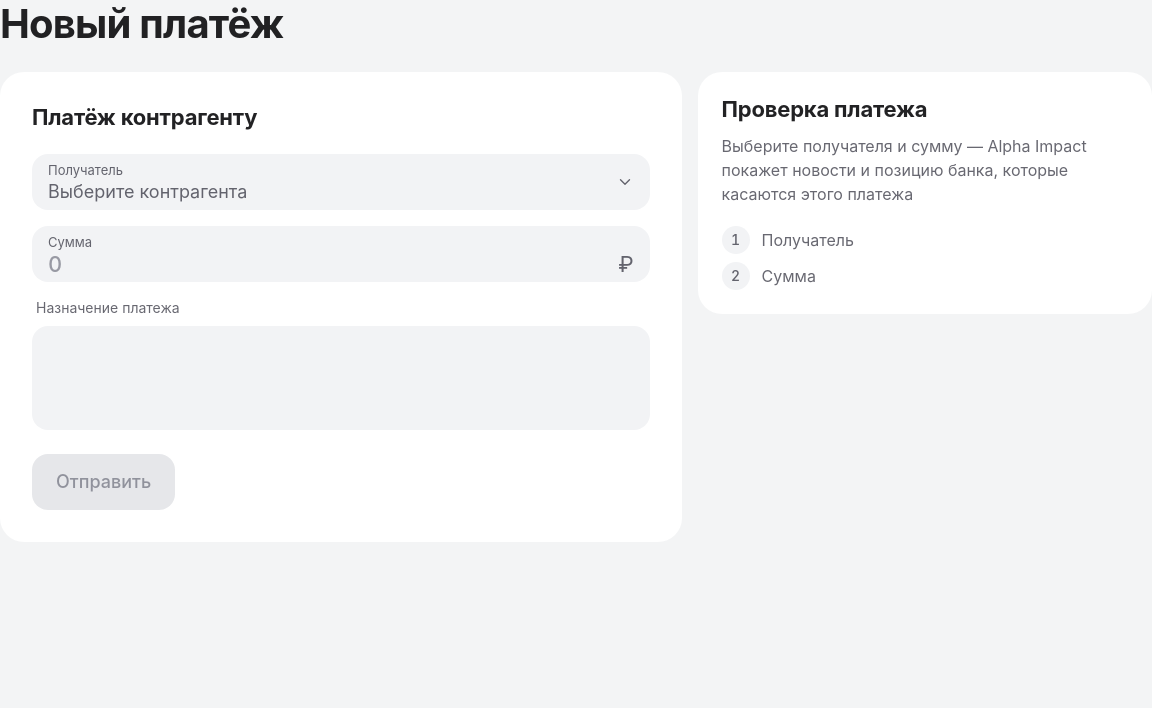
Test: PaymentPage › keeps the panel while the amount is being typed
Click the dropdown named "Получатель" at coordinates (148, 192), box left=32, top=154, right=650, bottom=210
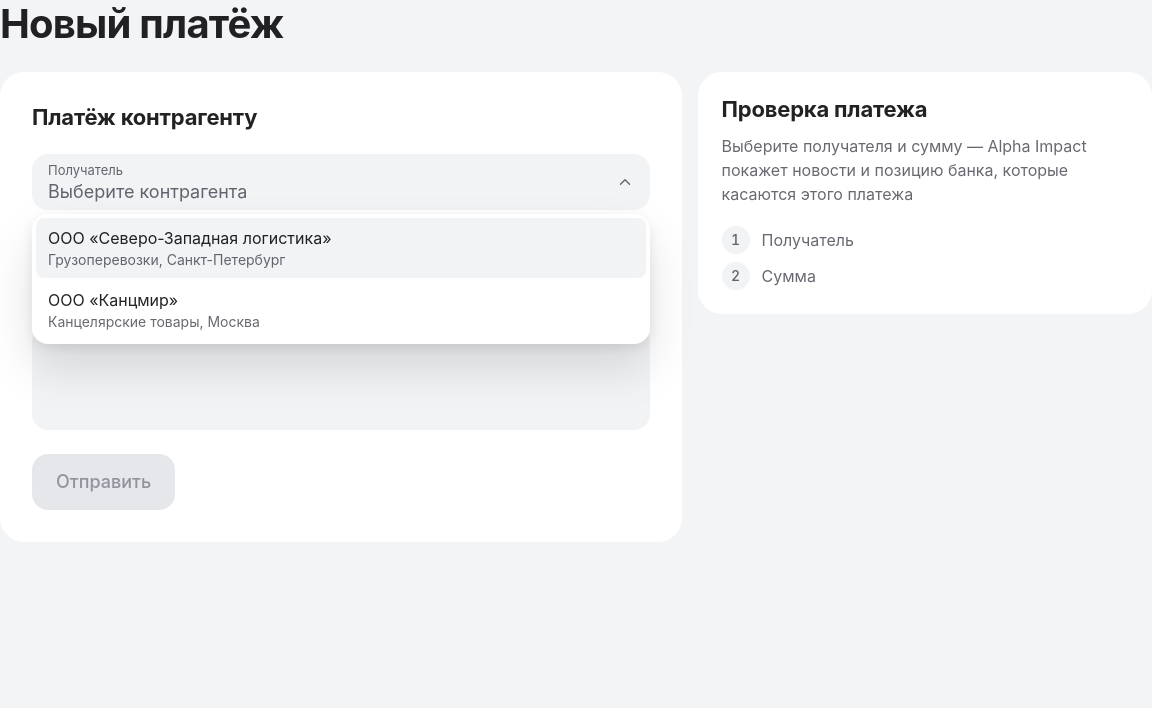
Click the option "ООО «Северо-Западная логистика»" at coordinates (190, 238), box left=36, top=218, right=646, bottom=278
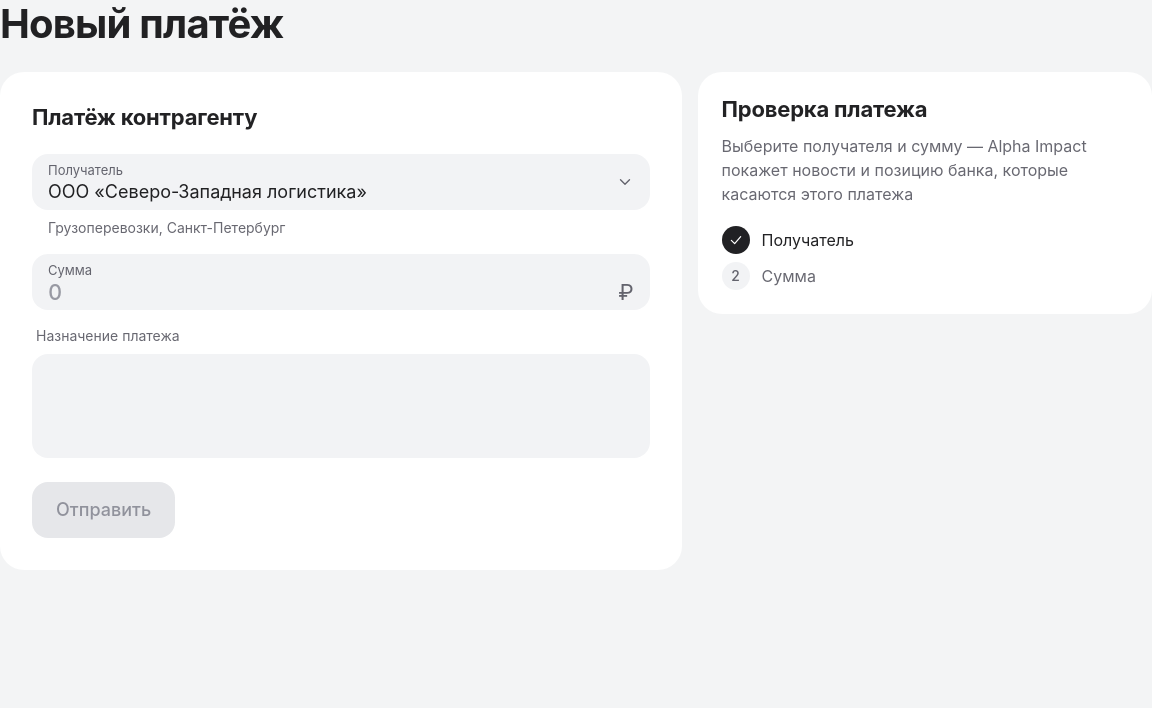
Type "1500" into the field named "Сумма, ₽" at coordinates (341, 282), box left=32, top=254, right=650, bottom=310
Wait 500 ms
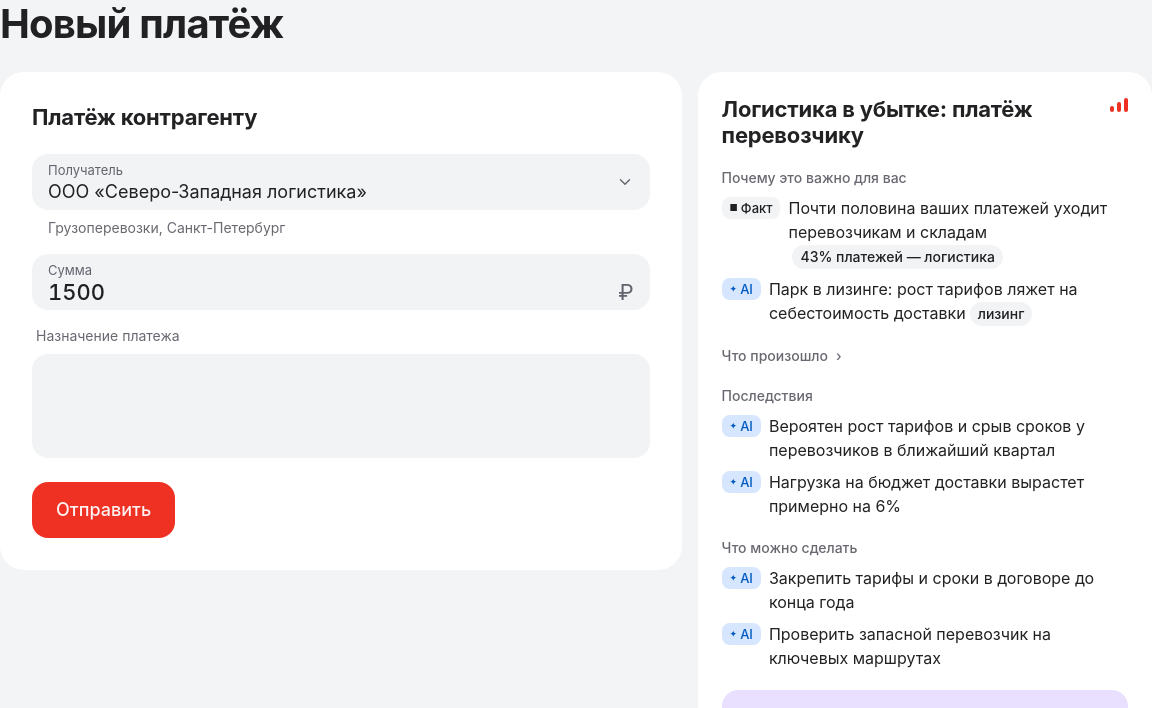
Replace the text in the field named "Сумма, ₽" with "1500," at coordinates (341, 282), box left=32, top=254, right=650, bottom=310
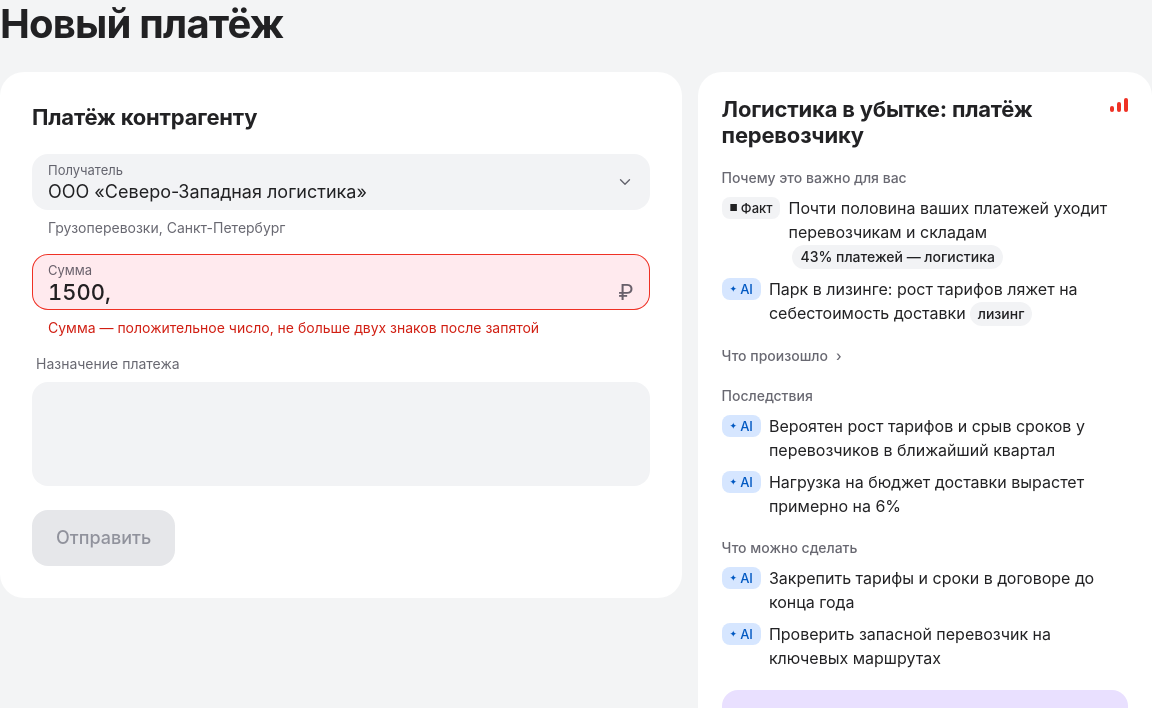
Check: the button "Отправить" is disabled, box left=32, top=510, right=175, bottom=566
